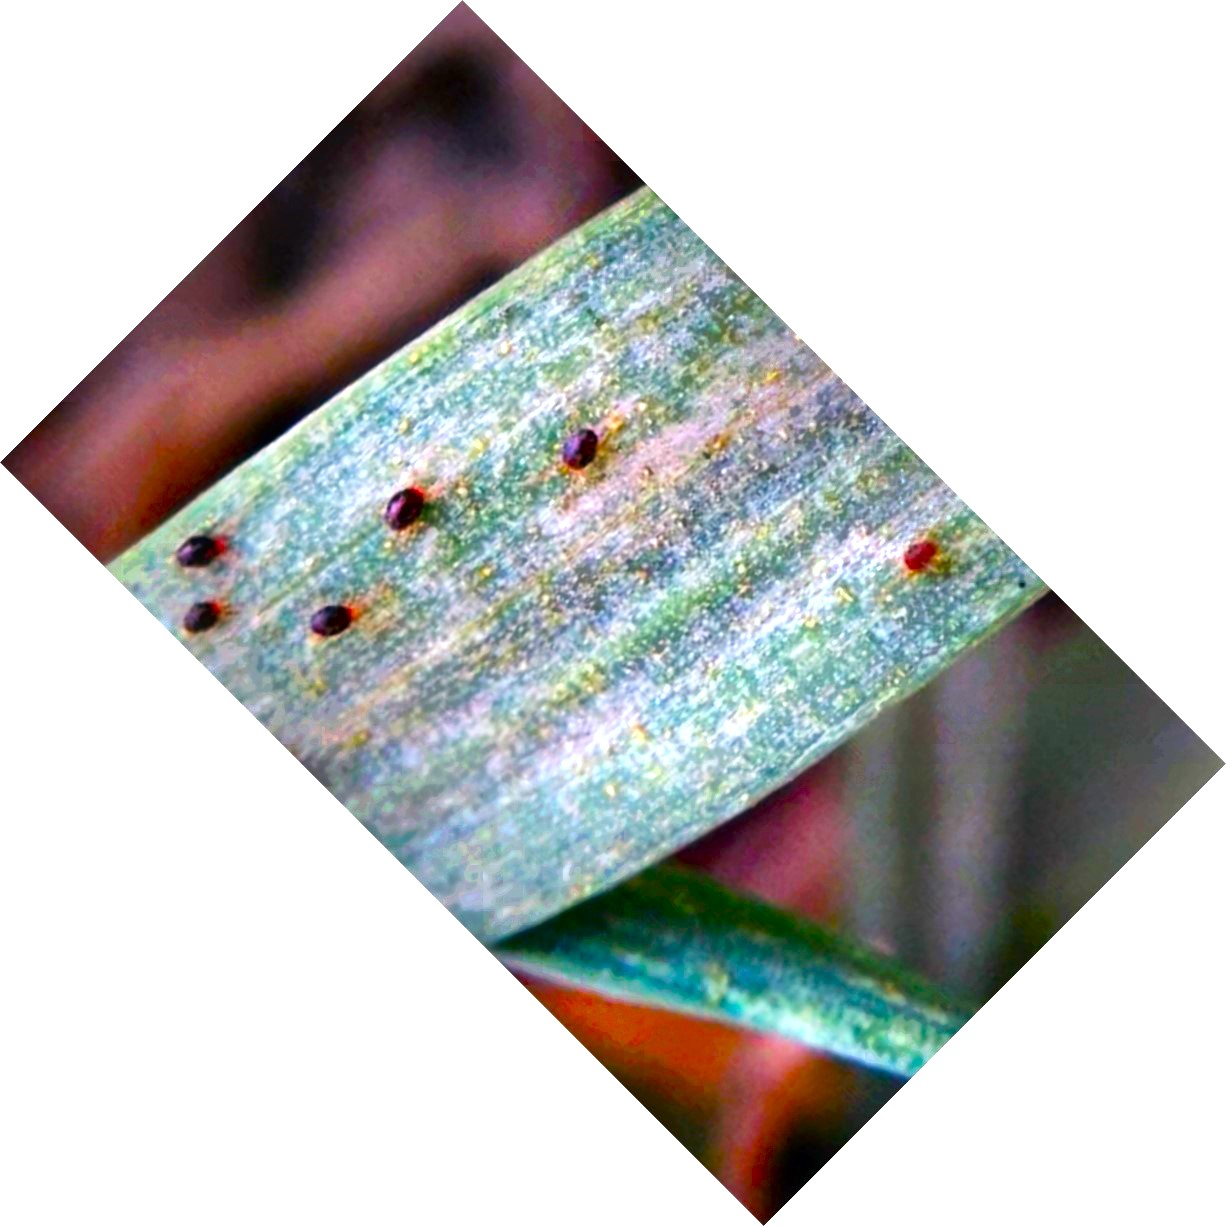Wheat Red Spider: (293, 424, 621, 670), (143, 479, 268, 662)
